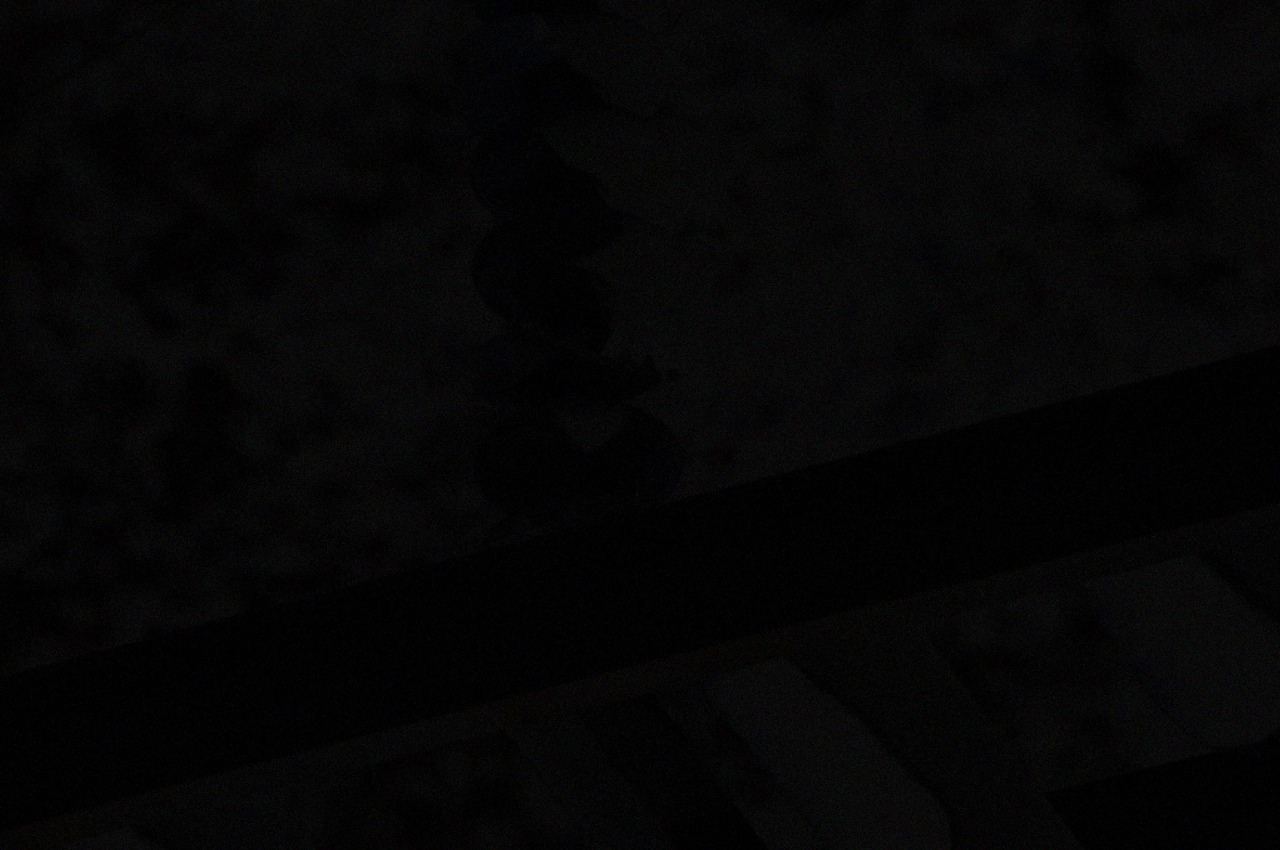Broken: (469, 317, 684, 407)
No issues: (465, 98, 681, 228), (459, 14, 675, 144), (470, 396, 687, 522), (468, 202, 684, 319)
String: (449, 0, 684, 552)
